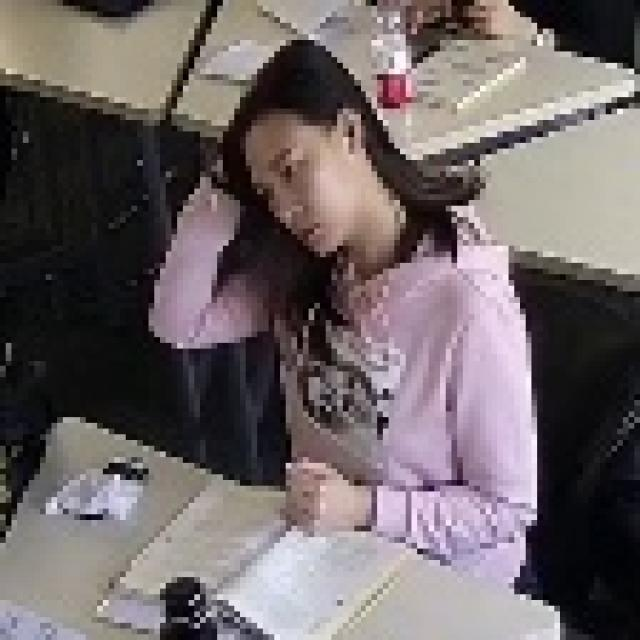trance: (148, 48, 540, 602)
